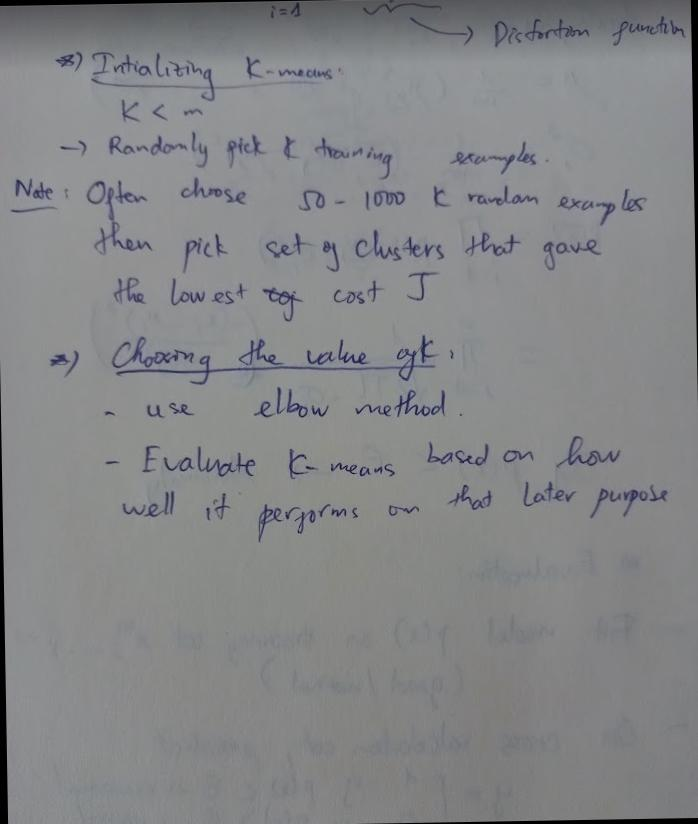text: (7, 164, 654, 238), (118, 478, 672, 549), (88, 209, 606, 280), (56, 121, 552, 190), (102, 430, 624, 490), (108, 266, 445, 332), (108, 331, 459, 391), (57, 38, 346, 108), (102, 381, 468, 427), (490, 11, 692, 52), (117, 94, 207, 127), (266, 1, 305, 22)
